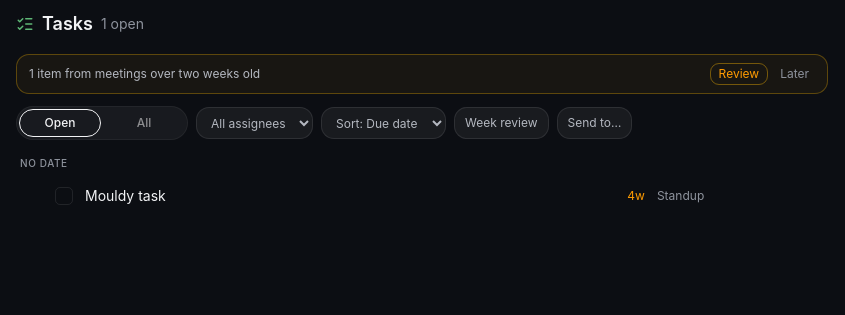
Test: TasksView › review surfaces are mutually exclusive (UX audit) › shows at most one of: week review card, stale banner, triage panel
Expected: the text "Mouldy task" is shown, [85, 187, 166, 204]
Expected: the text "1 item from meetings over two weeks old" is shown, [29, 66, 260, 82]
Note: Opening the week review collapses the banner.
Click the button "Week review": (501, 123) [454, 107, 548, 139]
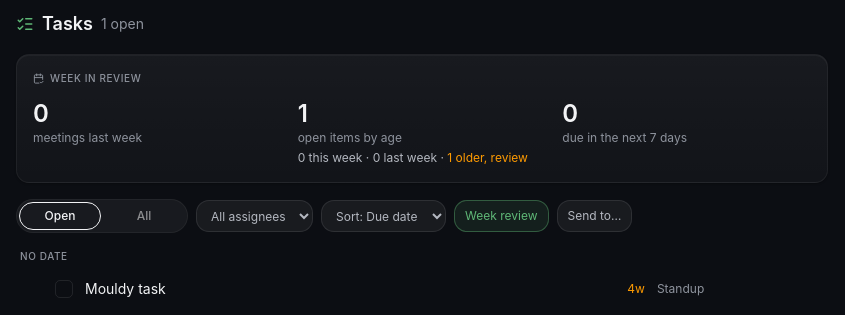
Result: the text "Week in review" is shown at [33, 72, 141, 84]
Result: the text "from meetings over two" is gone
Note: Closing it brings the banner back.
Click the button "Week review": (501, 216) [454, 200, 548, 232]
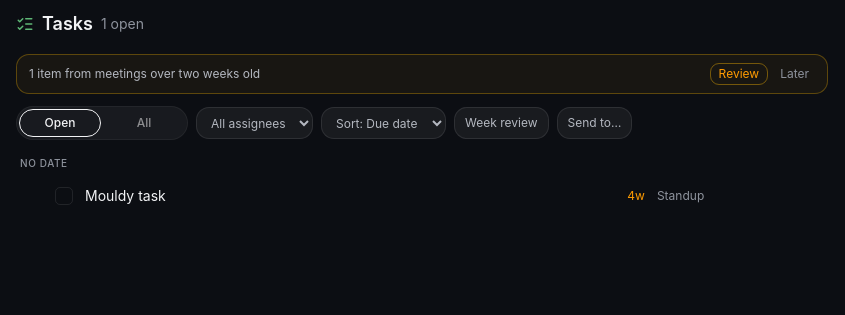
Result: the text "1 item from meetings over two weeks old" is shown at [29, 66, 260, 82]
Result: the text "Week in review" is gone
